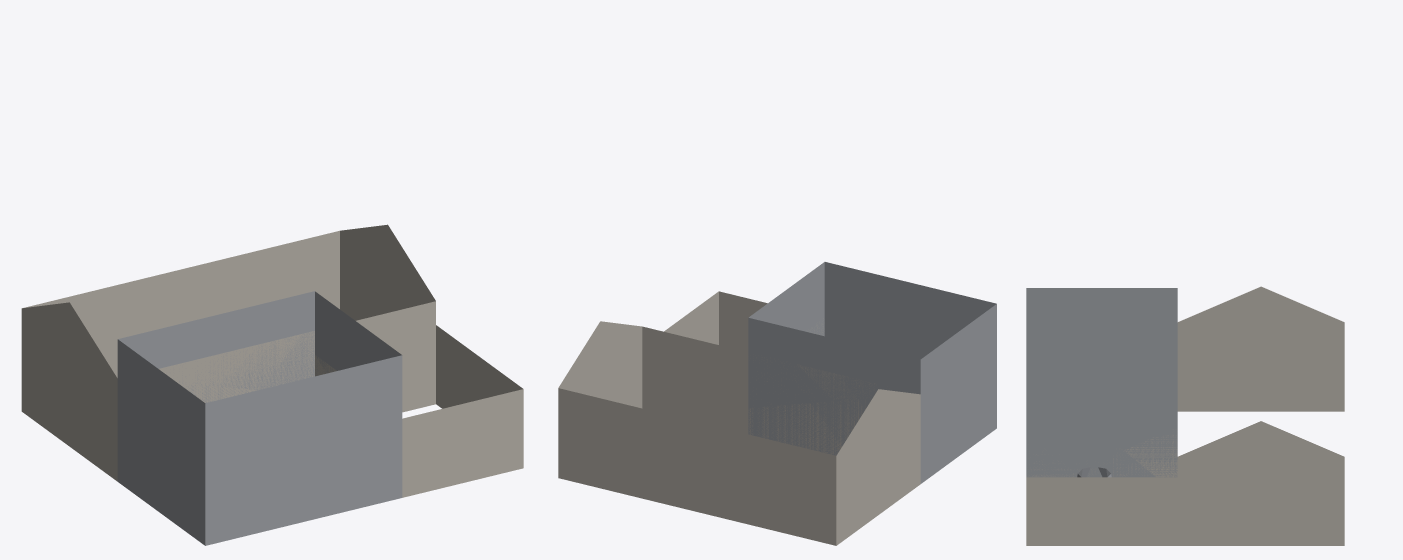
The model's file is Bld_I_med_L5_C.fbx.
3 renders of one model, left to right at view 1: azimuth 30°, elevation 25°; view 2: azimuth 150°, elevation 25°; view 3: azimuth 270°, elevation 25°, orthographic. The views are drawn at different scales.
Parts seen in each view (by area): view 1: Bld_I_med_L5_C_LOD0; view 2: Bld_I_med_L5_C_LOD0; view 3: Bld_I_med_L5_C_LOD0.
Boxes of the visible parts, x1,y1,x2,y2 form: Bld_I_med_L5_C_LOD0: [21, 224, 523, 545]; Bld_I_med_L5_C_LOD0: [558, 262, 996, 545]; Bld_I_med_L5_C_LOD0: [1026, 286, 1344, 545].
Size of what is drawn, in the model's own units: 2630 by 3025 by 2399.
Materials: 1 (1 with a texture image).
